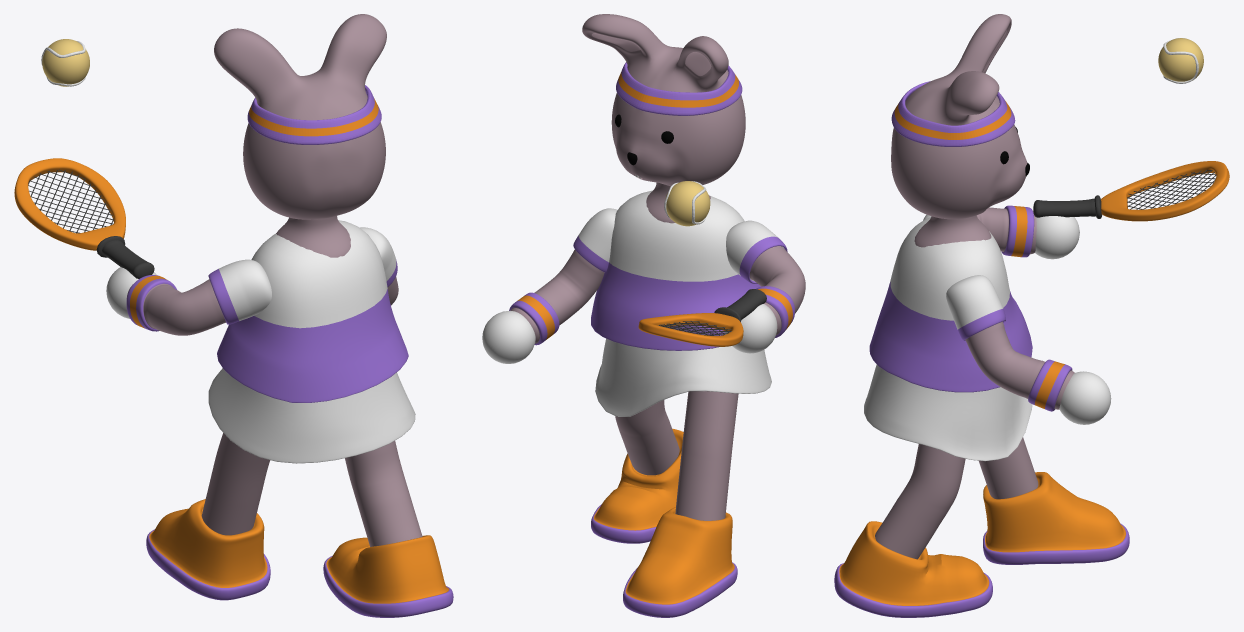
Rendered from conejo.glb.
3 views of the same model, side by side, from view 1: azimuth 30°, elevation 25°; view 2: azimuth 150°, elevation 25°; view 3: azimuth 270°, elevation 25° (orthographic). The views are drawn at different scales.
Parts seen in each view (by area): view 1: pelota.004; view 2: pelota.004; view 3: pelota.004.
Boxes of the visible parts, bbox=[...] form: pelota.004: bbox=[14, 14, 453, 617]; pelota.004: bbox=[482, 14, 805, 617]; pelota.004: bbox=[834, 14, 1229, 617].
Size of the model in its own units: 0.4893 by 0.8527 by 0.5688.
